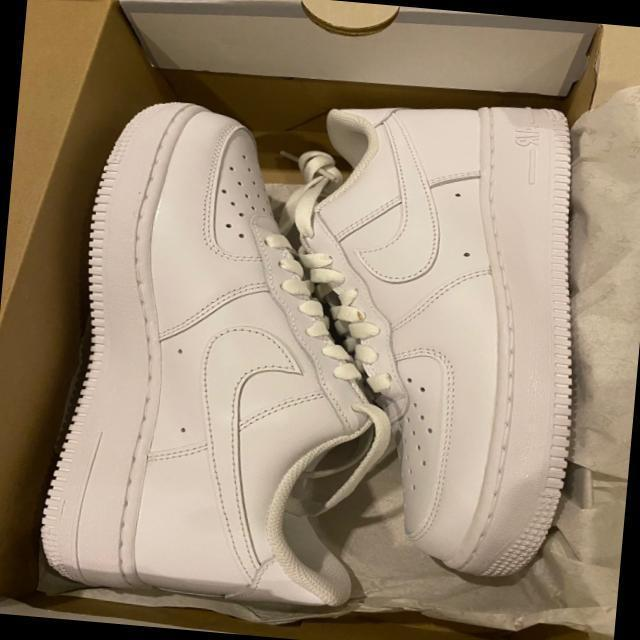nike original air force: (35, 92, 394, 608), (263, 87, 601, 590)
